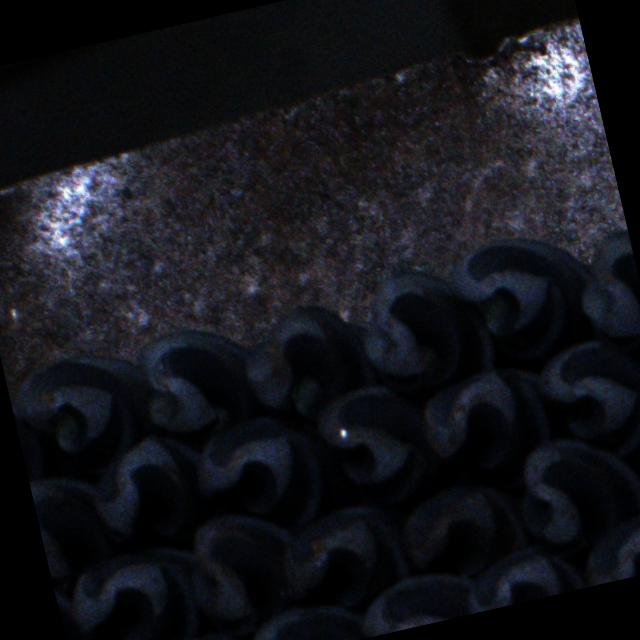tool_b: (443, 218, 610, 374), (185, 400, 354, 550), (7, 338, 167, 488), (339, 254, 498, 404), (414, 358, 566, 504), (232, 290, 385, 428), (309, 372, 447, 517), (503, 417, 640, 563), (174, 500, 311, 640), (80, 422, 226, 550), (270, 493, 418, 618), (130, 314, 266, 446), (393, 469, 534, 587), (62, 536, 214, 640), (531, 325, 640, 467), (28, 464, 124, 589), (457, 534, 587, 614), (350, 561, 482, 639), (566, 226, 640, 358)
